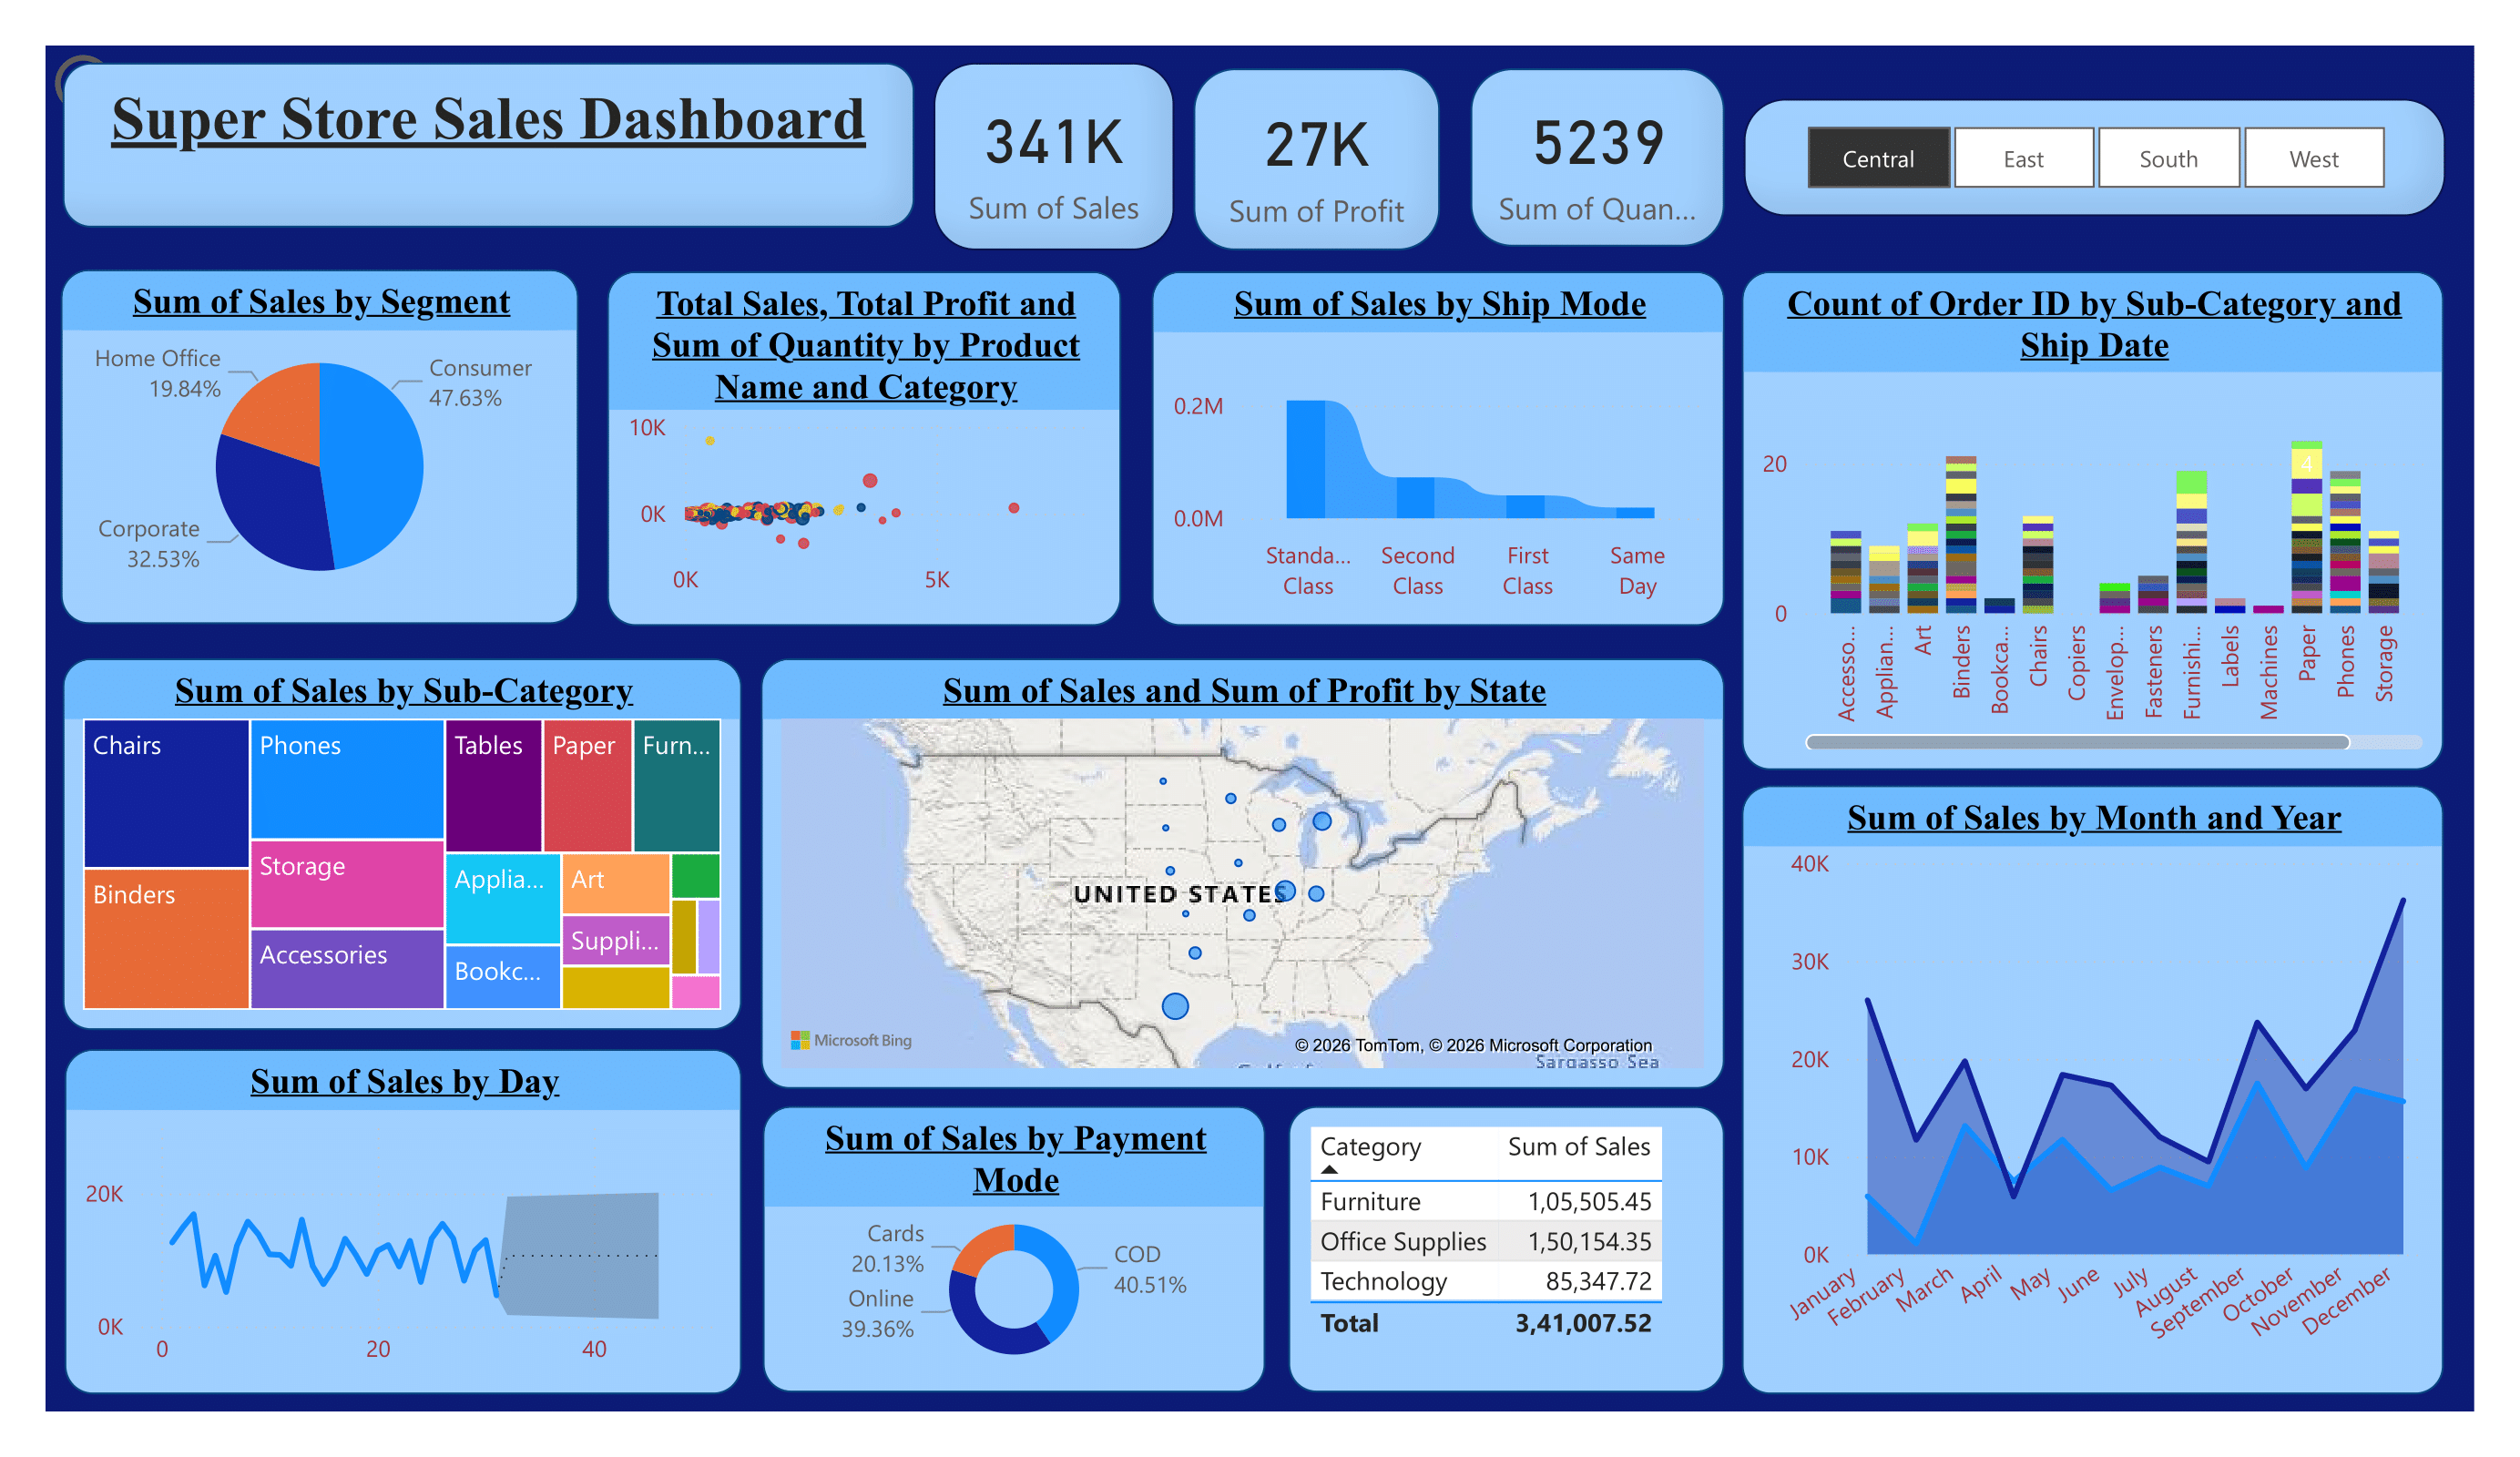

This screenshot's page, from the dashboard's own definition file:
{"tool":"powerbi","page":{"name":"Page 1","canvas":[1280,720],"ordinal":0},"visuals":[{"type":"tableEx","fields":{"Values":["SuperStore_Sales_Dataset.Category","Sum(SuperStore_Sales_Dataset.Sales)"]},"box":[655.2,559.4,229.8,150.5],"z":0},{"type":"treemap","fields":{"Group":["SuperStore_Sales_Dataset.Sub-Category","SuperStore_Sales_Dataset.Category"],"Values":["Sum(SuperStore_Sales_Dataset.Sales)"]},"box":[9,323.1,357.7,196.2],"z":1000},{"type":"areaChart","fields":{"Category":["SuperStore_Sales_Dataset.Order Date.Variation.Date Hierarchy.Month","SuperStore_Sales_Dataset.Order Date.Variation.Date Hierarchy.Day"],"Y":["Sum(SuperStore_Sales_Dataset.Sales)"],"Series":["SuperStore_Sales_Dataset.Order Date.Variation.Date Hierarchy.Year"]},"box":[894,389.7,370.4,320.9],"z":2000},{"type":"map","fields":{"Category":["SuperStore_Sales_Dataset.State"],"Size":["Sum(SuperStore_Sales_Dataset.Sales)"]},"box":[376.9,323.1,507.7,226.9],"z":3000},{"type":"actionButton","box":[0,0,100,40],"z":4000},{"type":"donutChart","fields":{"Y":["Sum(SuperStore_Sales_Dataset.Sales)"],"Category":["SuperStore_Sales_Dataset.Payment Mode","SuperStore_Sales_Dataset.Segment"]},"box":[377.5,559.4,265.4,150.5],"z":5000},{"type":"slicer","fields":{"Values":["SuperStore_Sales_Dataset.Region"]},"box":[894.9,28.2,370.5,61.5],"z":6000},{"type":"textbox","box":[9,9,448.7,87.2],"z":7000},{"type":"card","fields":{"Values":["Sum(SuperStore_Sales_Dataset.Sales)"]},"box":[467.9,9,126.9,98.7],"z":8000},{"type":"card","fields":{"Values":["Sum(SuperStore_Sales_Dataset.Quantity)"]},"box":[751.3,11.5,133.3,94.9],"z":9000},{"type":"card","fields":{"Values":["Sum(SuperStore_Sales_Dataset.Profit)"]},"box":[605.1,11.5,129.5,96.2],"z":10000},{"type":"lineChart","fields":{"Category":["SuperStore_Sales_Dataset.Order Date.Variation.Date Hierarchy.Day"],"Y":["Sum(SuperStore_Sales_Dataset.Sales)"]},"box":[9.6,529.3,357,181.9],"z":11000},{"type":"columnChart","fields":{"Category":["SuperStore_Sales_Dataset.Sub-Category"],"Y":["CountNonNull(SuperStore_Sales_Dataset.Order ID)"],"Series":["SuperStore_Sales_Dataset.Ship Date"]},"box":[893.6,119.2,370.5,262.8],"z":12000},{"type":"ribbonChart","fields":{"Category":["SuperStore_Sales_Dataset.Ship Mode"],"Y":["Sum(SuperStore_Sales_Dataset.Sales)"]},"box":[583.3,119.2,301.3,187.2],"z":13000},{"type":"scatterChart","fields":{"Category":["SuperStore_Sales_Dataset.Product Name","SuperStore_Sales_Dataset.Order Date.Variation.Date Hierarchy.Month"],"X":["SuperStore_Sales_Dataset.Total Sales"],"Y":["SuperStore_Sales_Dataset.Total Profit"],"Size":["Sum(SuperStore_Sales_Dataset.Quantity)"],"Series":["SuperStore_Sales_Dataset.Category"]},"box":[296.2,119.2,270.5,187.2],"z":14000},{"type":"pieChart","fields":{"Y":["Sum(SuperStore_Sales_Dataset.Sales)"],"Category":["SuperStore_Sales_Dataset.Segment"]},"box":[8.4,118.2,272.7,187],"z":15000}]}

Visuals, with their boxes on the page's 1280x720 design canvas (x1, y1, x2, y2). These are canvas units, not pixel positions in the 2520x1457 screenshot, which may show the page scaled, cropped or inside an application window:
tableEx - SuperStore_Sales_Dataset.Category x Sum(SuperStore_Sales_Dataset.Sales): <region>655, 559, 885, 710</region>
treemap - SuperStore_Sales_Dataset.Sub-Category x SuperStore_Sales_Dataset.Category: <region>9, 323, 367, 519</region>
areaChart - SuperStore_Sales_Dataset.Order Date.Variation.Date Hierarchy.Month x SuperStore_Sales_Dataset.Order Date.Variation.Date Hierarchy.Day: <region>894, 390, 1264, 711</region>
map - SuperStore_Sales_Dataset.State x Sum(SuperStore_Sales_Dataset.Sales): <region>377, 323, 885, 550</region>
actionButton: <region>0, 0, 100, 40</region>
donutChart - Sum(SuperStore_Sales_Dataset.Sales) x SuperStore_Sales_Dataset.Payment Mode: <region>378, 559, 643, 710</region>
slicer - SuperStore_Sales_Dataset.Region: <region>895, 28, 1265, 90</region>
textbox: <region>9, 9, 458, 96</region>
card - Sum(SuperStore_Sales_Dataset.Sales): <region>468, 9, 595, 108</region>
card - Sum(SuperStore_Sales_Dataset.Quantity): <region>751, 12, 885, 106</region>
card - Sum(SuperStore_Sales_Dataset.Profit): <region>605, 12, 735, 108</region>
lineChart - SuperStore_Sales_Dataset.Order Date.Variation.Date Hierarchy.Day x Sum(SuperStore_Sales_Dataset.Sales): <region>10, 529, 367, 711</region>
columnChart - SuperStore_Sales_Dataset.Sub-Category x CountNonNull(SuperStore_Sales_Dataset.Order ID): <region>894, 119, 1264, 382</region>
ribbonChart - SuperStore_Sales_Dataset.Ship Mode x Sum(SuperStore_Sales_Dataset.Sales): <region>583, 119, 885, 306</region>
scatterChart - SuperStore_Sales_Dataset.Product Name x SuperStore_Sales_Dataset.Order Date.Variation.Date Hierarchy.Month: <region>296, 119, 567, 306</region>
pieChart - Sum(SuperStore_Sales_Dataset.Sales) x SuperStore_Sales_Dataset.Segment: <region>8, 118, 281, 305</region>
